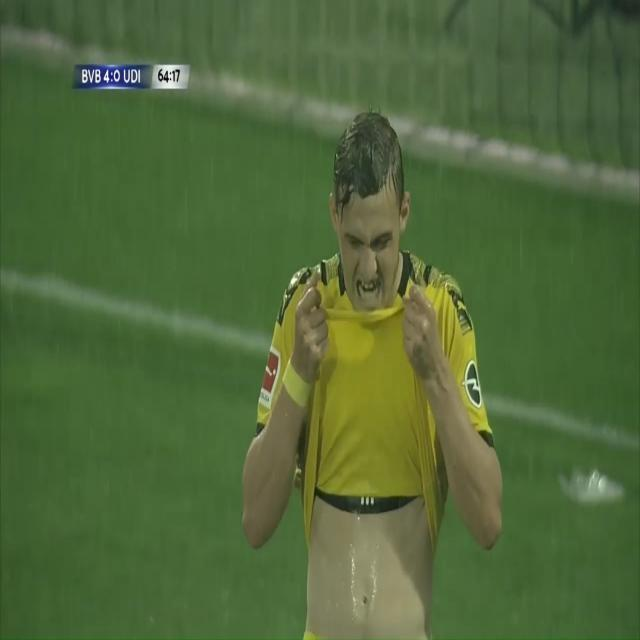player: (223, 76, 502, 640)
